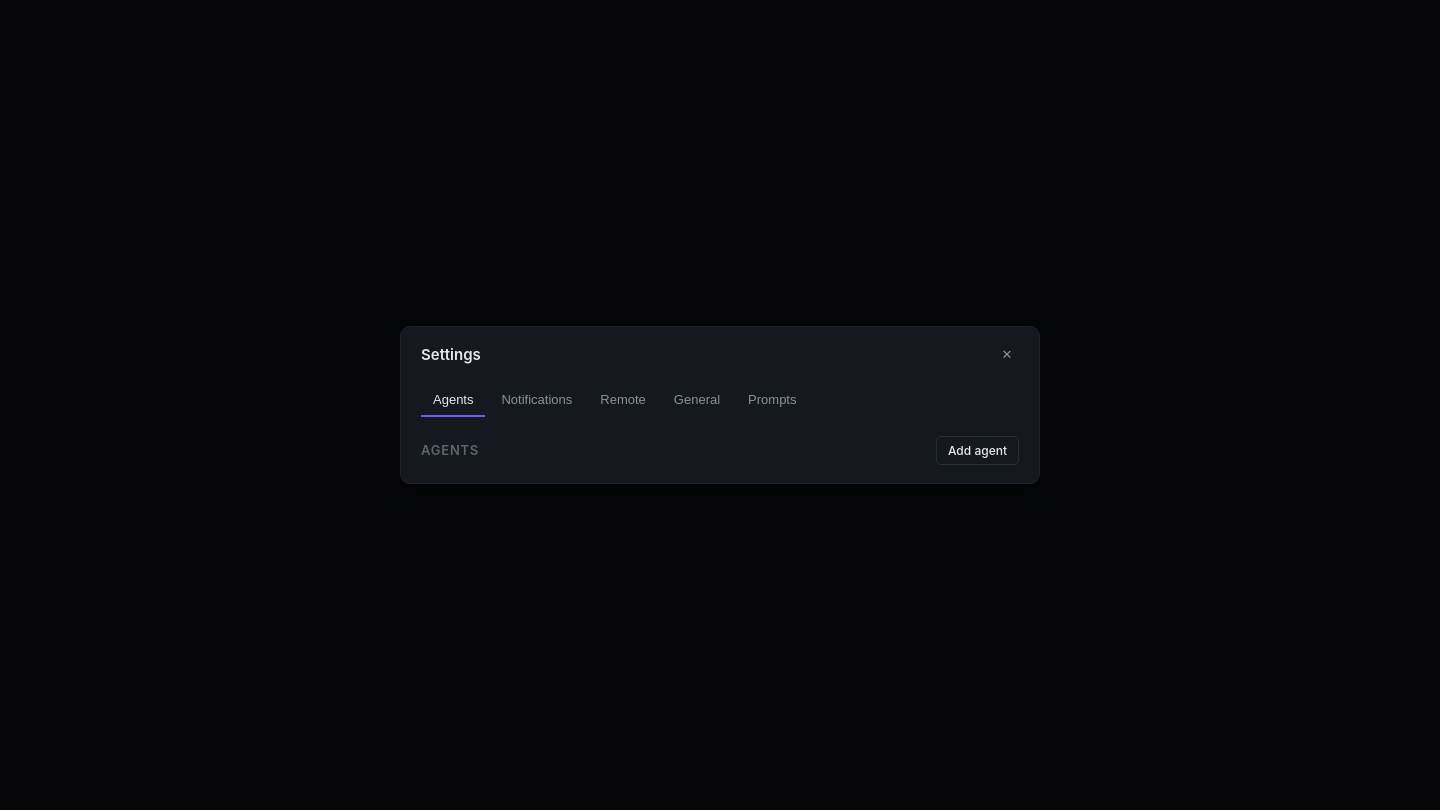
Test: Settings — Remote access › warns when the sleep assertion could not be acquired
Click the tab "Remote" at {"x": 623, "y": 400}, box top-left (588, 384), bottom-right (658, 417)
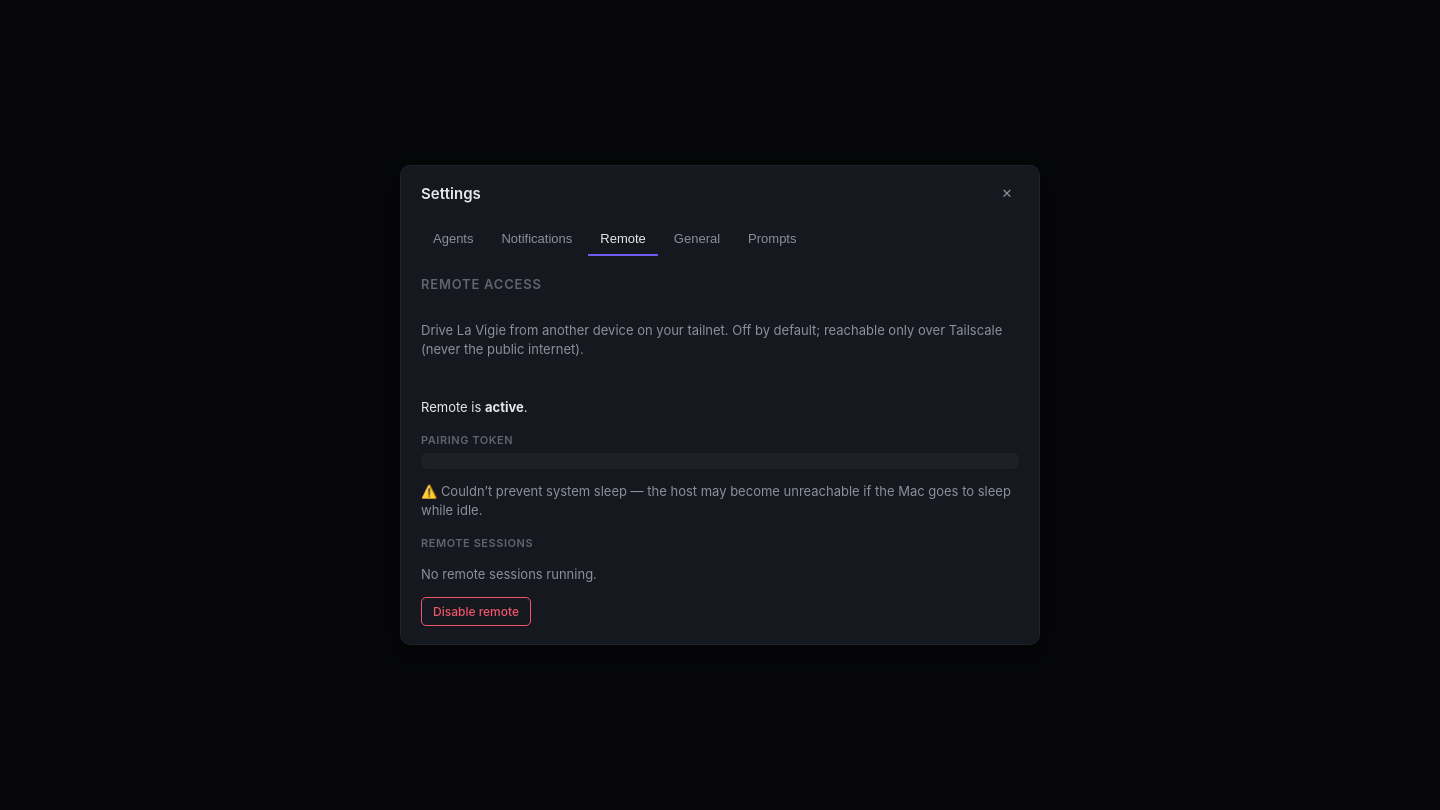
Result: the text "Couldn’t prevent system sleep" is shown at top-left (421, 483), bottom-right (1011, 518)
